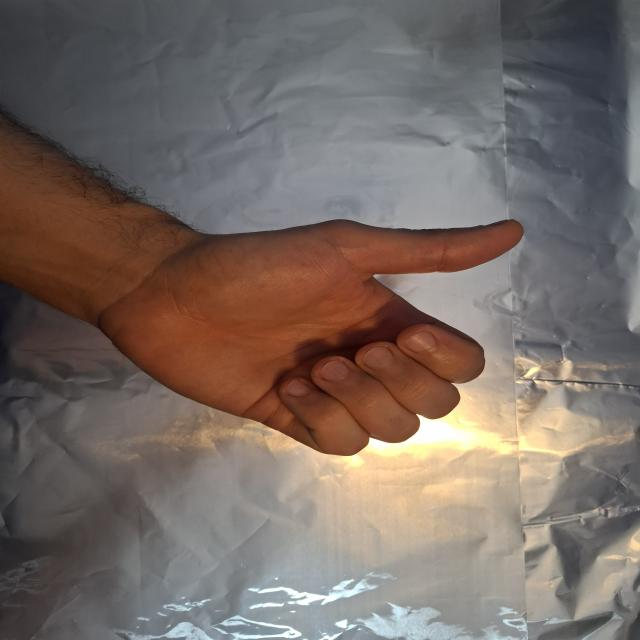glove_off: (81, 215, 527, 458)
